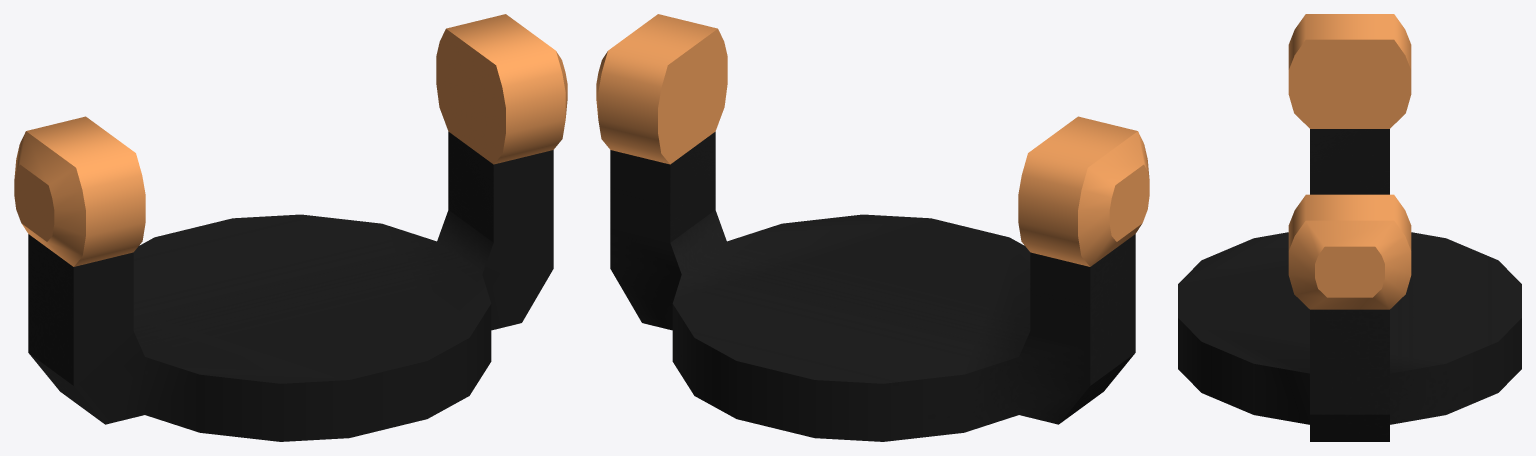
Rendered from YK_Shotgun_Gimbal.obj.
3 renders of one model, left to right at view 1: azimuth 30°, elevation 25°; view 2: azimuth 150°, elevation 25°; view 3: azimuth 270°, elevation 25°, orthographic. The views are drawn at different scales.
Parts seen in each view (by area): view 1: BF_Block_111.001_BF_Block_111.002; view 2: BF_Block_111.001_BF_Block_111.002; view 3: BF_Block_111.001_BF_Block_111.002.
Part boxes in pixels (x1,y1,x2,y2): BF_Block_111.001_BF_Block_111.002: [14, 14, 567, 441]; BF_Block_111.001_BF_Block_111.002: [596, 14, 1149, 441]; BF_Block_111.001_BF_Block_111.002: [1178, 14, 1521, 441].
Size of the model in its own units: 1.22 by 0.6062 by 0.8036.
